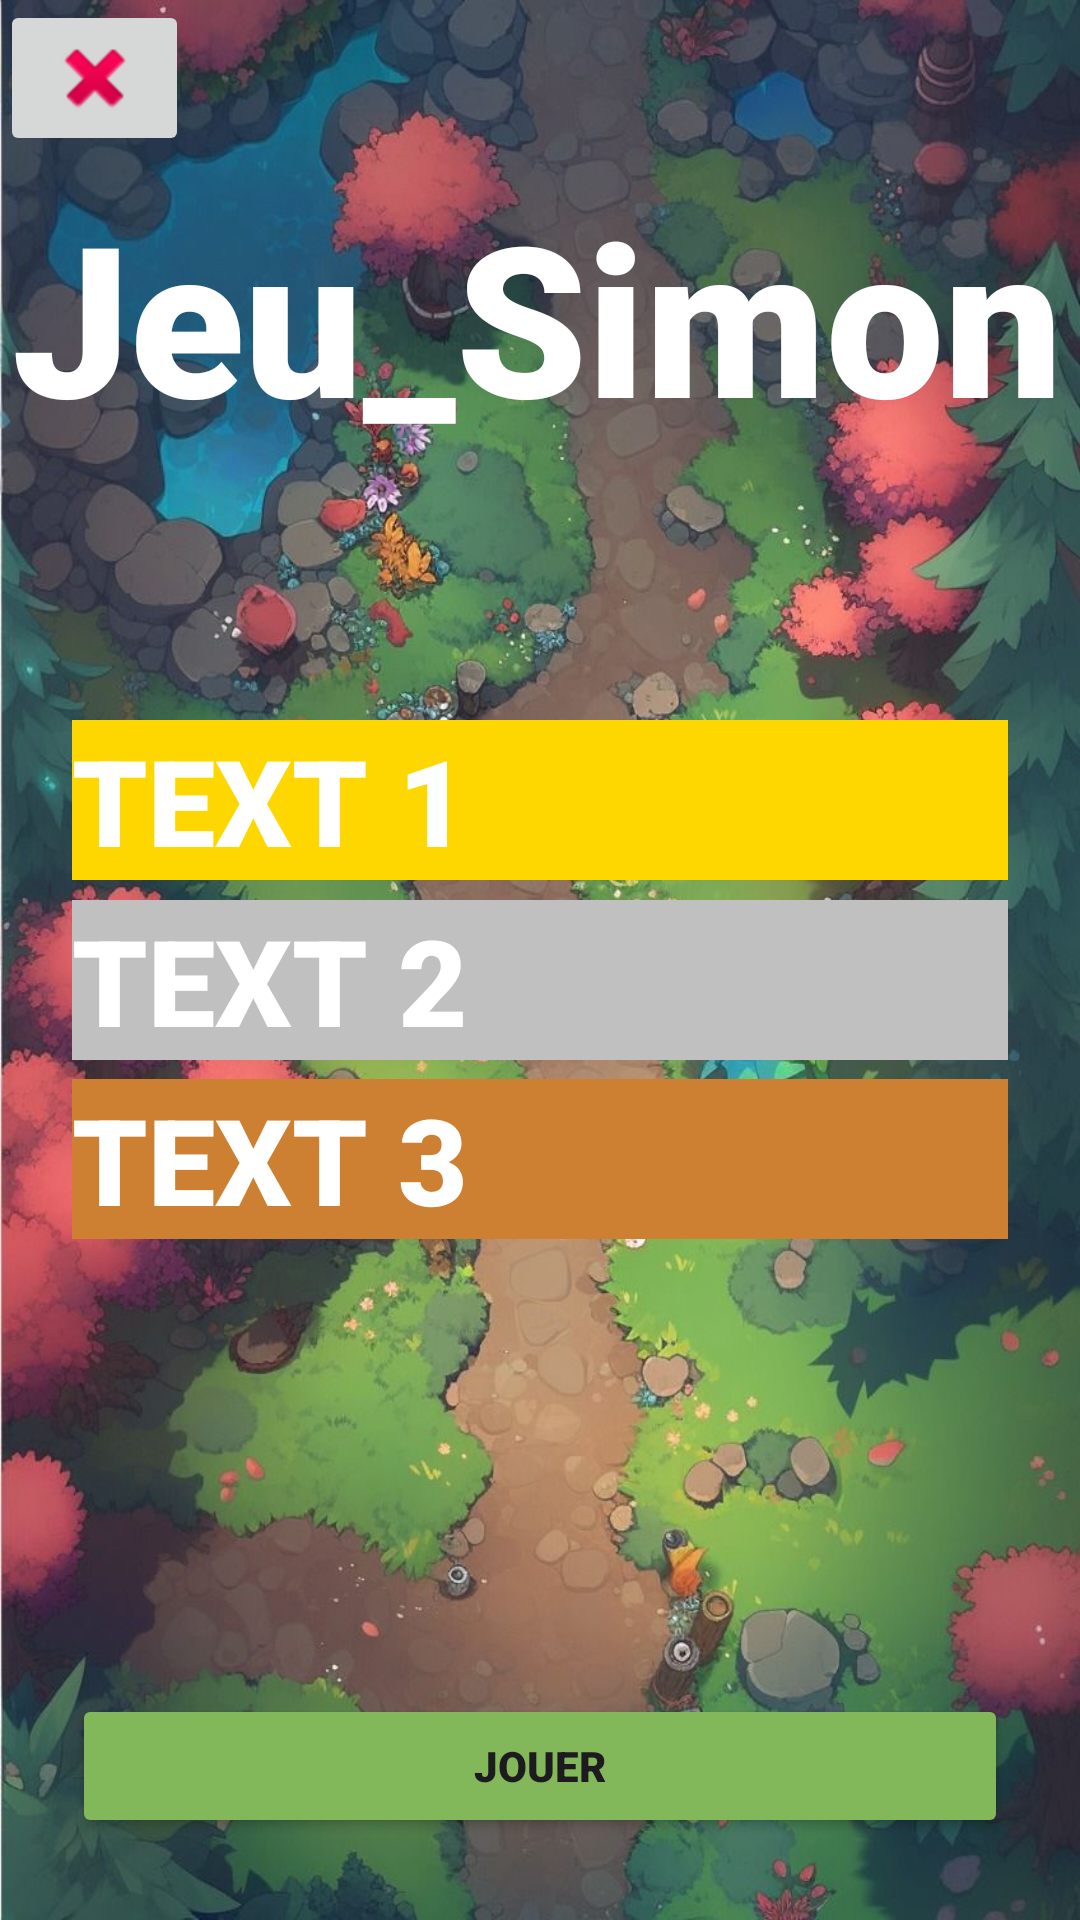

Icons on this 1080px x 1920px Android screen, each with the point to tap as [x,y]:
Exit: [94,78]
